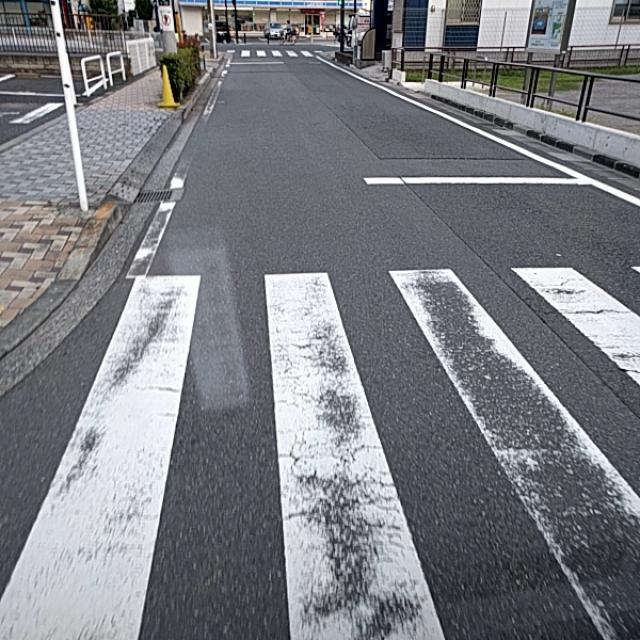pothole: (240, 444, 518, 610)
